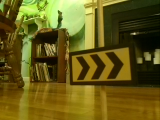right: (70, 46, 134, 83)
